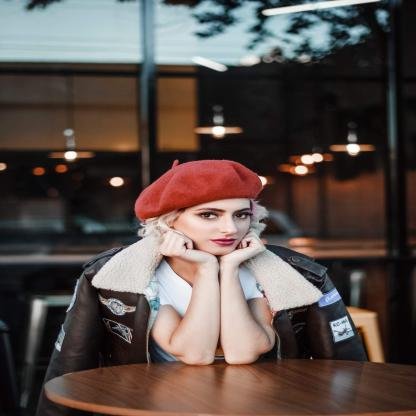Eye: (194, 210, 221, 220), (232, 210, 250, 220)
Mouth: (206, 236, 238, 246)
Nose: (219, 218, 238, 236)
